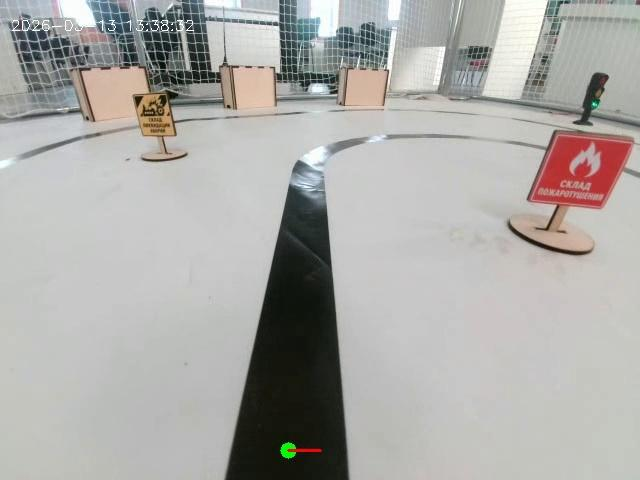fire: (530, 122, 634, 268)
industrial: (118, 91, 194, 172)
